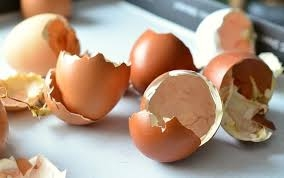kitchen_waste: (127, 66, 227, 166), (198, 49, 283, 148), (42, 45, 131, 131), (126, 23, 204, 94), (5, 12, 87, 77), (194, 5, 265, 77), (1, 71, 46, 112)
